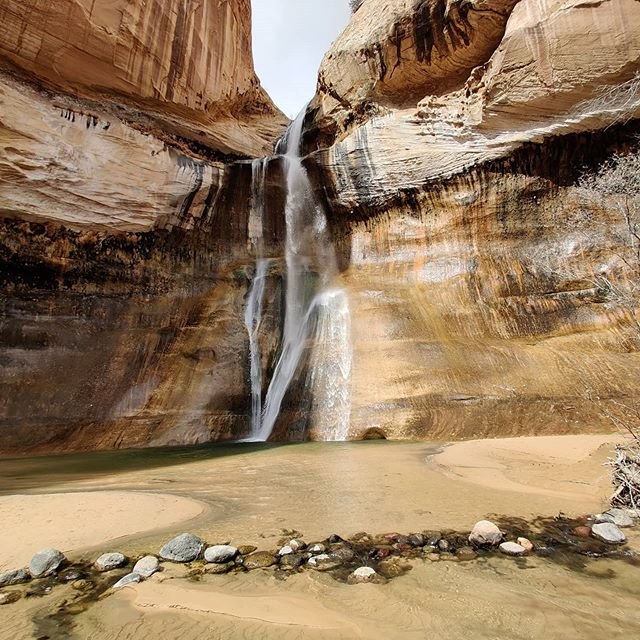rocks: (1, 498, 636, 606)
waterfall: (201, 102, 396, 446)
